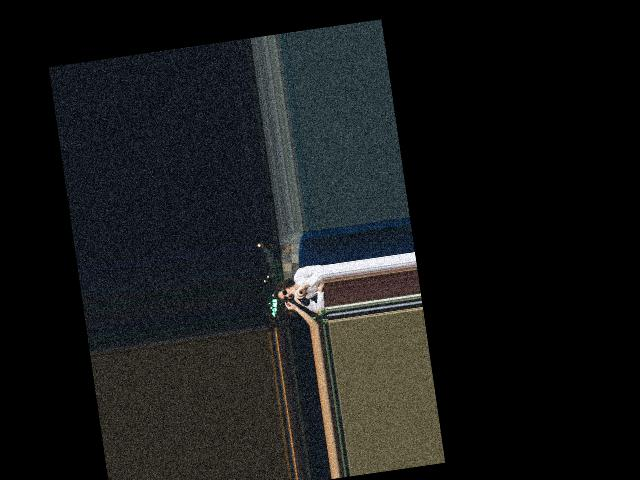beer: (290, 292, 311, 309)
